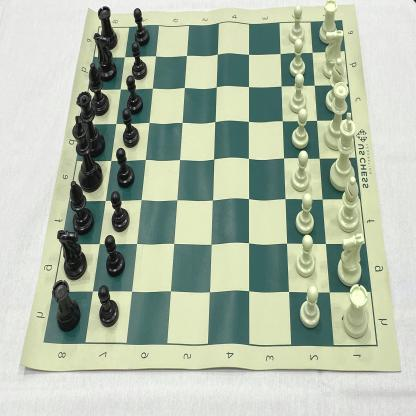black-bishop: (69, 179, 94, 234), (87, 63, 110, 115)
black-king: (71, 115, 103, 192)
black-knight: (56, 228, 88, 278), (93, 33, 117, 81)
black-pawn: (97, 285, 120, 328), (104, 235, 125, 277), (110, 189, 130, 233), (115, 148, 136, 188), (121, 108, 139, 149), (133, 7, 151, 46), (131, 40, 148, 80), (126, 74, 143, 114)
black-queen: (76, 92, 104, 155)
black-rook: (50, 280, 80, 333), (97, 6, 117, 48)
white-bishop: (338, 176, 361, 232), (325, 58, 347, 112)
white-king: (330, 112, 358, 191)
white-knight: (337, 232, 366, 286), (322, 28, 344, 78)
white-pawn: (294, 235, 320, 278), (299, 286, 322, 330), (290, 150, 312, 192), (290, 108, 312, 150), (295, 193, 317, 234), (288, 5, 306, 46), (288, 74, 306, 113), (288, 40, 306, 76)
white-queen: (324, 80, 351, 151)
white-rook: (342, 281, 370, 339), (319, 0, 339, 44)
